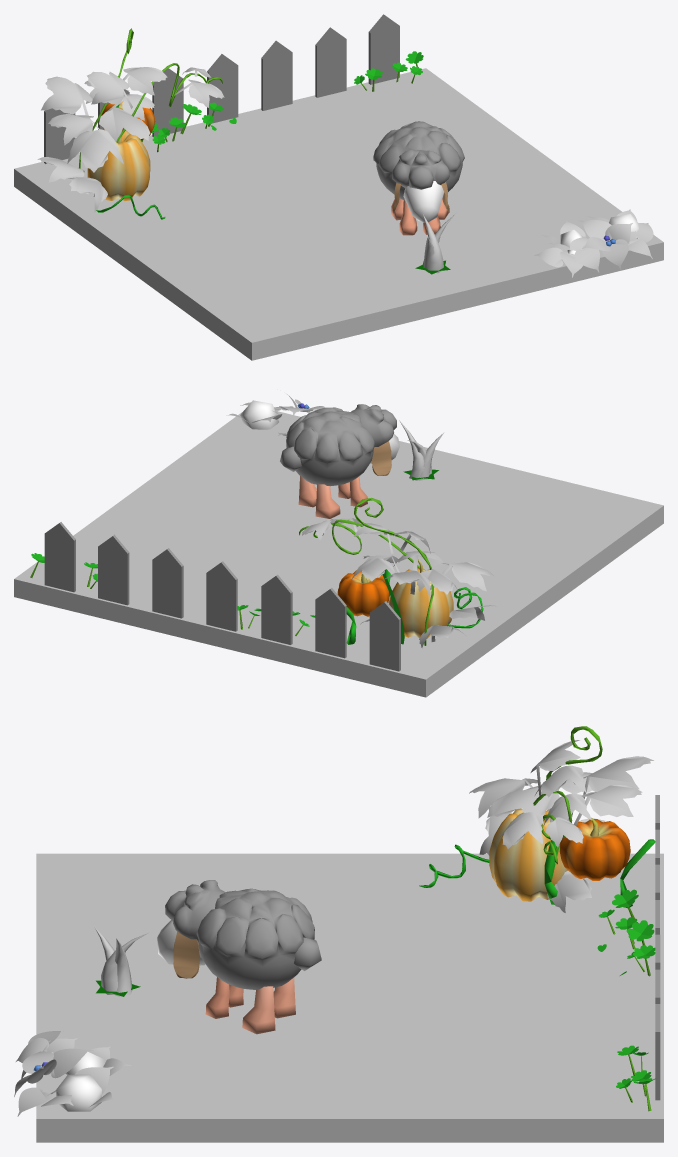
Rendered from sheep.dae.
The picture shows the model from 3 angles, top to bottom: view 1: azimuth 30°, elevation 25°; view 2: azimuth 150°, elevation 25°; view 3: azimuth 270°, elevation 25°; orthographic projection. The views are drawn at different scales.
Parts seen in each view (by area): view 1: Box012, Box010_PIVOT, Line068, Sphere001, Sphere003, Sphere005, Sphere002, Object001, Object002, Sphere006_PIVOT, Object006, Object008 (+1 smaller); view 2: Box012, Box010_PIVOT, Sphere001, Line068, Sphere003, Sphere01, Sphere006_PIVOT, Sphere005, Line071, Sphere010, Line065, Line001_PIVOT (+1 smaller); view 3: Box012, Sphere001, Line068, Sphere003, Sphere01, Sphere006_PIVOT, Sphere005, Box010_PIVOT, Line071, Sphere010, Object001, Line002_PIVOT (+10 smaller).
Boxes of the visible parts, x1,y1,x2,y2 form: Box012: (14,68,663,360); Box010_PIVOT: (44,14,399,163); Line068: (37,76,128,212); Sphere001: (373,121,464,200); Sphere003: (87,130,150,200); Sphere005: (392,149,449,189); Sphere002: (403,181,444,222); Object001: (94,107,150,141); Object002: (87,71,132,108); Sphere006_PIVOT: (391,198,448,235); Object006: (123,67,167,95); Object008: (174,79,224,107); Box012: (14,411,663,697); Box010_PIVOT: (44,522,400,671); Sphere001: (286,407,375,486); Line068: (351,558,496,647); Sphere003: (389,559,453,638); Sphere01: (337,570,389,616); Sphere006_PIVOT: (298,476,367,518); Sphere005: (350,404,396,446); Line071: (346,569,483,644); Sphere010: (240,400,278,429); Line065: (354,498,433,645); Line001_PIVOT: (372,441,391,475); Box012: (36,853,663,1142); Sphere001: (196,888,314,989); Line068: (469,756,653,912); Sphere003: (489,808,567,901); Sphere01: (559,817,630,880); Sphere006_PIVOT: (205,977,295,1034); Sphere005: (165,880,225,942); Box010_PIVOT: (655,795,660,1100); Line071: (419,839,655,908); Sphere010: (56,1074,101,1111); Object001: (487,784,562,834); Line002_PIVOT: (173,932,199,978).
Size of the model in its own units: 19.25 by 19.57 by 6.86.
